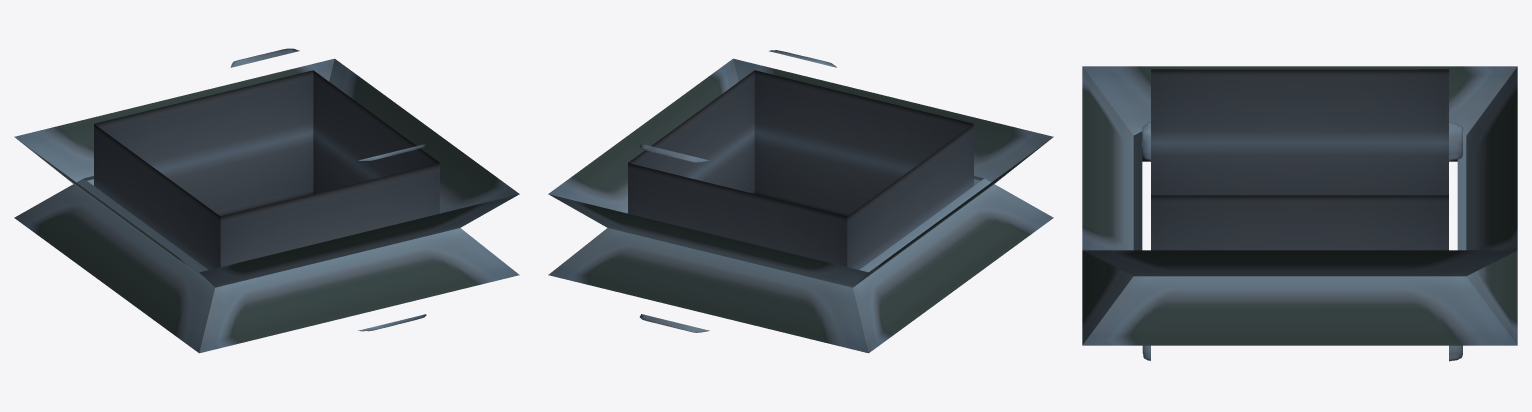
Rendered from obj_interactive_pipe01_lod1.fbx.
3 renders of one model, left to right at view 1: azimuth 30°, elevation 25°; view 2: azimuth 150°, elevation 25°; view 3: azimuth 270°, elevation 25°, orthographic. The views are drawn at different scales.
Visible parts, largest first — view 1: obj_interactive_pipe01_lod1; view 2: obj_interactive_pipe01_lod1; view 3: obj_interactive_pipe01_lod1.
Part boxes in pixels (left/top/right/bottom): obj_interactive_pipe01_lod1: left=14, top=48, right=519, bottom=353; obj_interactive_pipe01_lod1: left=548, top=50, right=1053, bottom=353; obj_interactive_pipe01_lod1: left=1082, top=66, right=1517, bottom=361.
Size of the model in its own units: 2 by 1.01 by 2.
